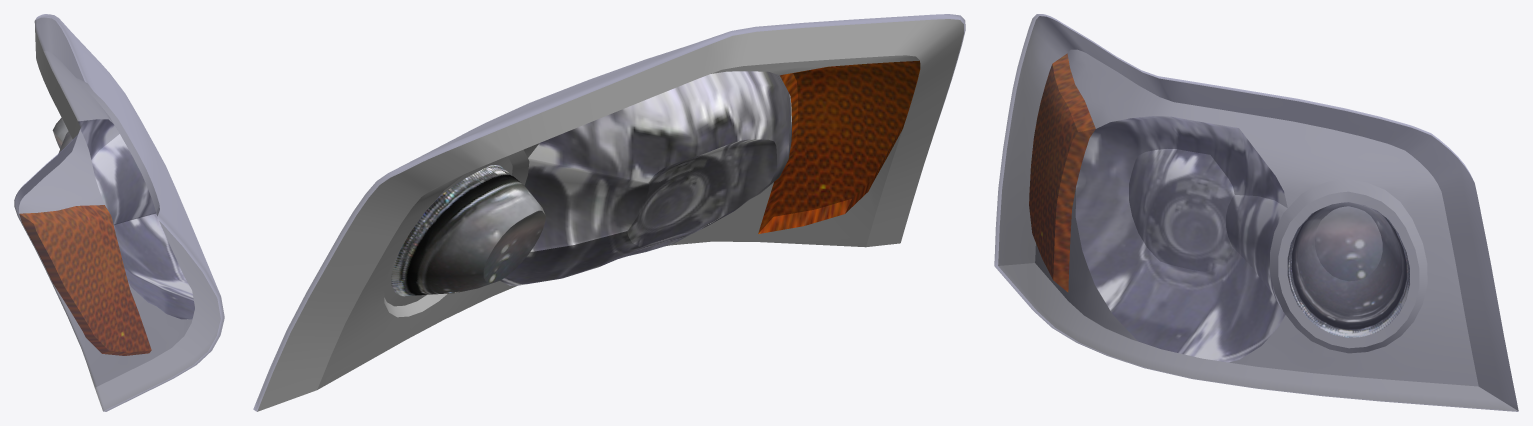
3 views of the same model, side by side, from view 1: azimuth 30°, elevation 25°; view 2: azimuth 150°, elevation 25°; view 3: azimuth 270°, elevation 25° (orthographic). The views are drawn at different scales.
Visible parts, largest first — view 1: Y651_061B_R_Y651_061B_R_6_DTaSI, Y651_061B_R_3_DaS_Y651_061B_R, Y651_061B_R_Y651_061B_R_4_N, Y651_061B_R_Y651_061B_R_1_N, Y651_061B_R_Y651_061B_R_2_N; view 2: Y651_061B_R_3_DaS_Y651_061B_R, Y651_061B_R_Y651_061B_R_1_N, Y651_061B_R_Y651_061B_R_4_N, Y651_061B_R_Y651_061B_R_2_N, Y651_061B_R_Y651_061B_R_6_DTaSI; view 3: Y651_061B_R_Y651_061B_R_6_DTaSI, Y651_061B_R_3_DaS_Y651_061B_R, Y651_061B_R_Y651_061B_R_1_N, Y651_061B_R_Y651_061B_R_2_N, Y651_061B_R_Y651_061B_R_4_N.
Part boxes in pixels (left/top/right/bottom): Y651_061B_R_Y651_061B_R_6_DTaSI: left=14, top=14, right=224, bottom=411; Y651_061B_R_3_DaS_Y651_061B_R: left=14, top=17, right=220, bottom=410; Y651_061B_R_Y651_061B_R_4_N: left=19, top=205, right=151, bottom=355; Y651_061B_R_Y651_061B_R_1_N: left=58, top=119, right=194, bottom=319; Y651_061B_R_Y651_061B_R_2_N: left=52, top=118, right=68, bottom=148; Y651_061B_R_3_DaS_Y651_061B_R: left=257, top=19, right=963, bottom=411; Y651_061B_R_Y651_061B_R_1_N: left=500, top=71, right=791, bottom=285; Y651_061B_R_Y651_061B_R_4_N: left=758, top=60, right=920, bottom=233; Y651_061B_R_Y651_061B_R_2_N: left=391, top=165, right=545, bottom=296; Y651_061B_R_Y651_061B_R_6_DTaSI: left=253, top=14, right=965, bottom=411; Y651_061B_R_Y651_061B_R_6_DTaSI: left=994, top=14, right=1518, bottom=411; Y651_061B_R_3_DaS_Y651_061B_R: left=998, top=16, right=1518, bottom=411; Y651_061B_R_Y651_061B_R_1_N: left=1075, top=116, right=1287, bottom=362; Y651_061B_R_Y651_061B_R_2_N: left=1287, top=202, right=1409, bottom=337; Y651_061B_R_Y651_061B_R_4_N: left=1029, top=53, right=1095, bottom=291.
Size of the model in its own units: 35.81 by 23.46 by 47.3.
